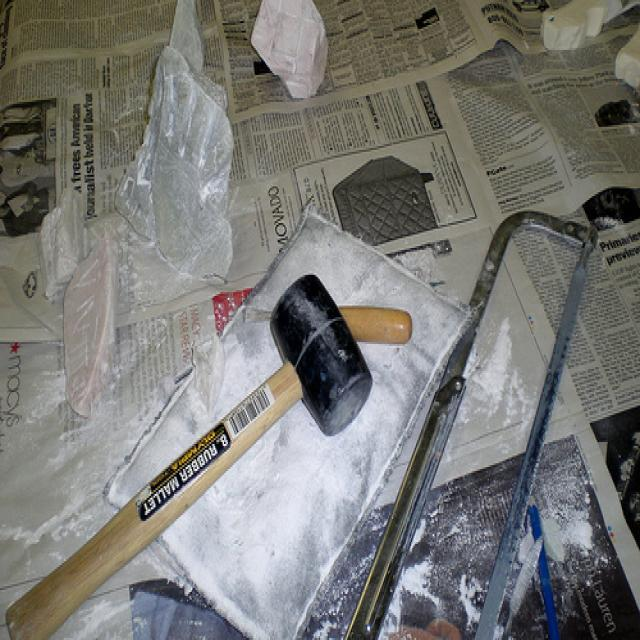hammer: (0, 263, 379, 640)
